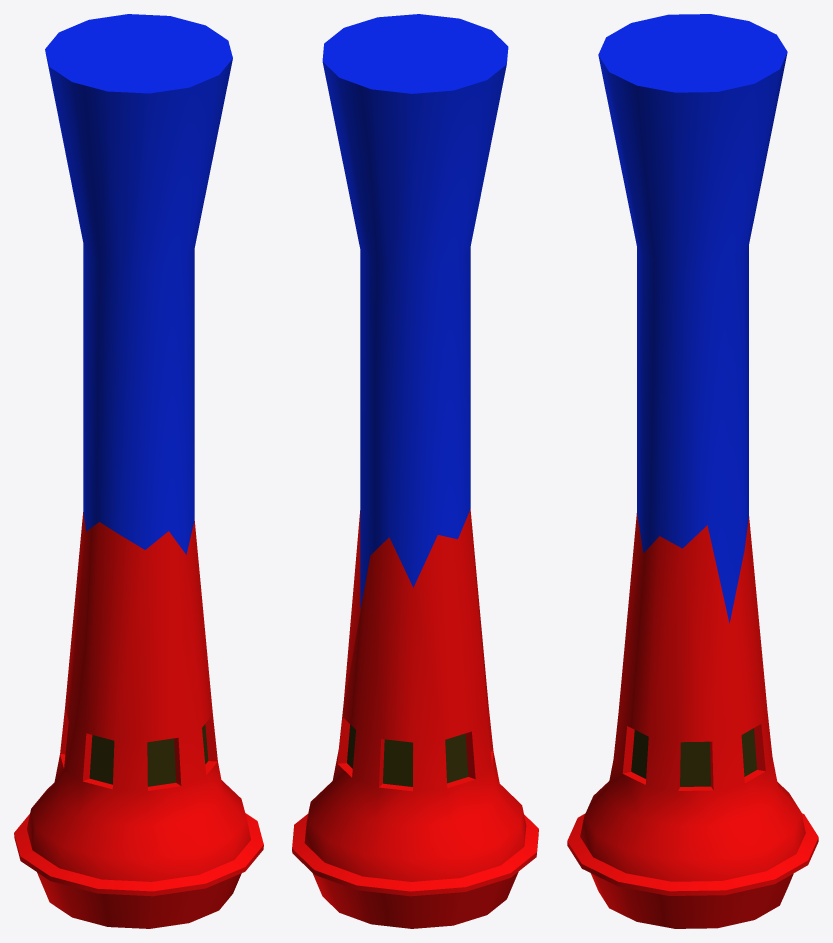
File: body_G.FBX
The picture shows the model from 3 angles, left to right: view 1: azimuth 30°, elevation 25°; view 2: azimuth 150°, elevation 25°; view 3: azimuth 270°, elevation 25°; orthographic projection.
Parts seen in each view (by area): view 1: pillar_G_bodyup, pillar_G_bodydown, pillar_G_glass; view 2: pillar_G_bodyup, pillar_G_bodydown, pillar_G_glass; view 3: pillar_G_bodyup, pillar_G_bodydown, pillar_G_glass.
Boxes of the visible parts, left/top/right/bottom form: pillar_G_bodyup: left=45, top=14, right=232, bottom=554; pillar_G_bodydown: left=14, top=512, right=263, bottom=928; pillar_G_glass: left=89, top=724, right=208, bottom=786; pillar_G_bodyup: left=322, top=14, right=508, bottom=609; pillar_G_bodydown: left=292, top=509, right=538, bottom=928; pillar_G_glass: left=347, top=724, right=468, bottom=786; pillar_G_bodyup: left=598, top=14, right=787, bottom=623; pillar_G_bodydown: left=567, top=513, right=818, bottom=928; pillar_G_glass: left=631, top=728, right=756, bottom=786.
Size of the model in its own units: 10.44 by 38.95 by 10.61.
